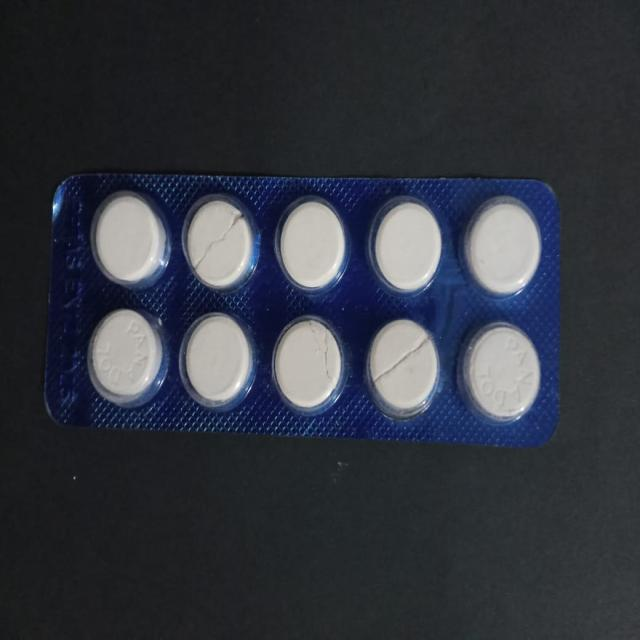defect: (266, 309, 352, 419), (363, 311, 444, 422), (179, 188, 264, 293)
